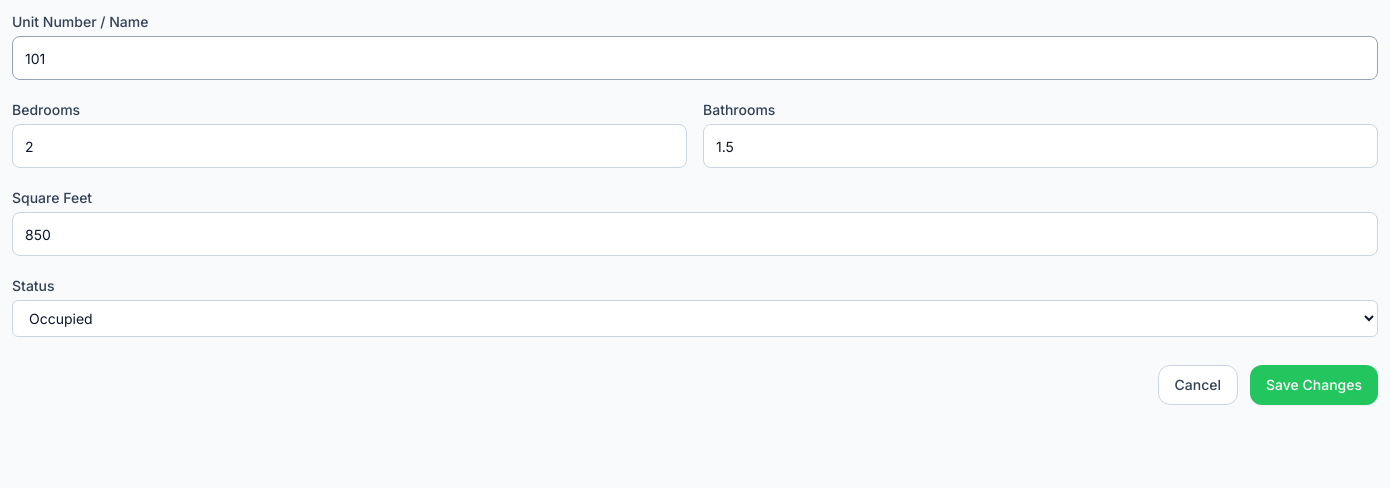
Test: UnitForm › shows server error on submit failure
The width and height of the screenshot is (1390, 488).
Click the button "Save Changes": [1314, 385] box [1250, 365, 1378, 405]
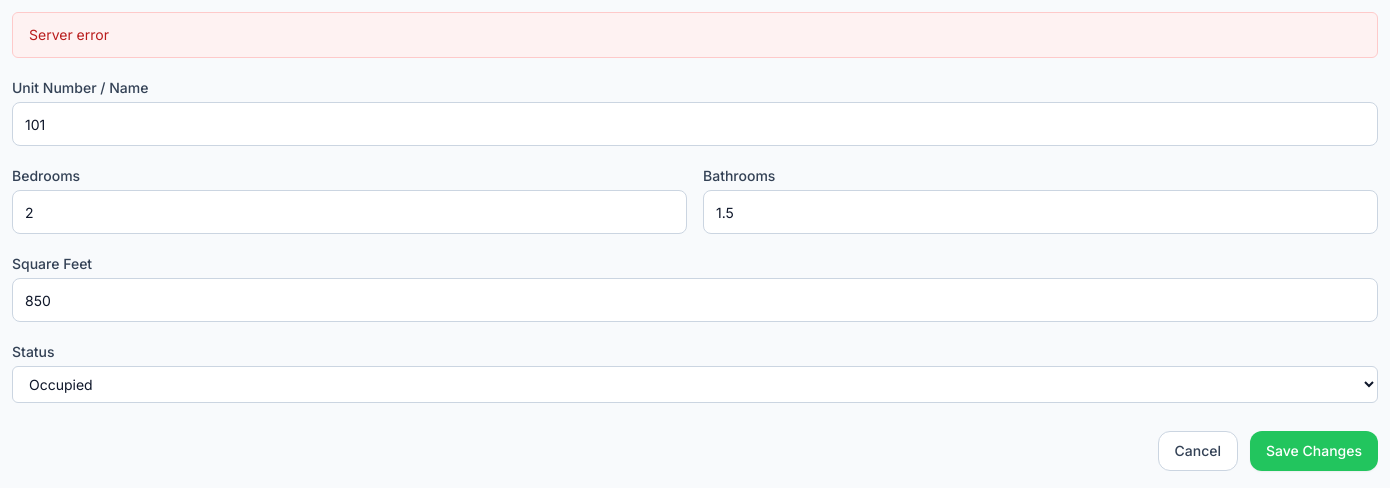
Check: the message reads "Server error", box [29, 26, 109, 43]
